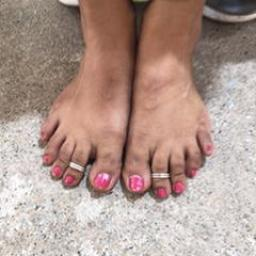Dorsal View -Both Feet-: (32, 6, 222, 203)
